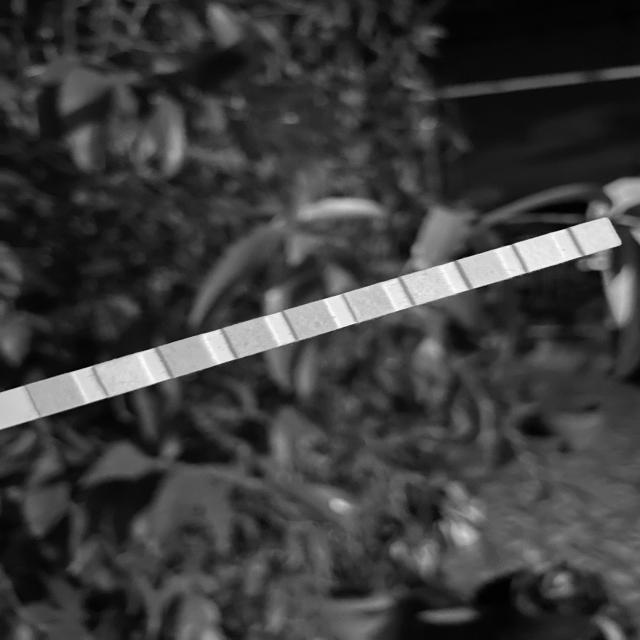Bilirubin: (110, 360, 141, 388)
Blood: (296, 307, 324, 332)
Glucose: (38, 382, 72, 408)
Ketone: (173, 343, 204, 369)
Leukocytes: (582, 224, 608, 248)
Nitrite: (528, 241, 556, 264)
Protein: (412, 273, 442, 297)
SpGravity: (237, 324, 267, 350)
Urobilinogen: (469, 256, 498, 280)
background: (0, 0, 640, 640)
pH: (353, 291, 385, 313)
strip: (0, 217, 622, 430)
